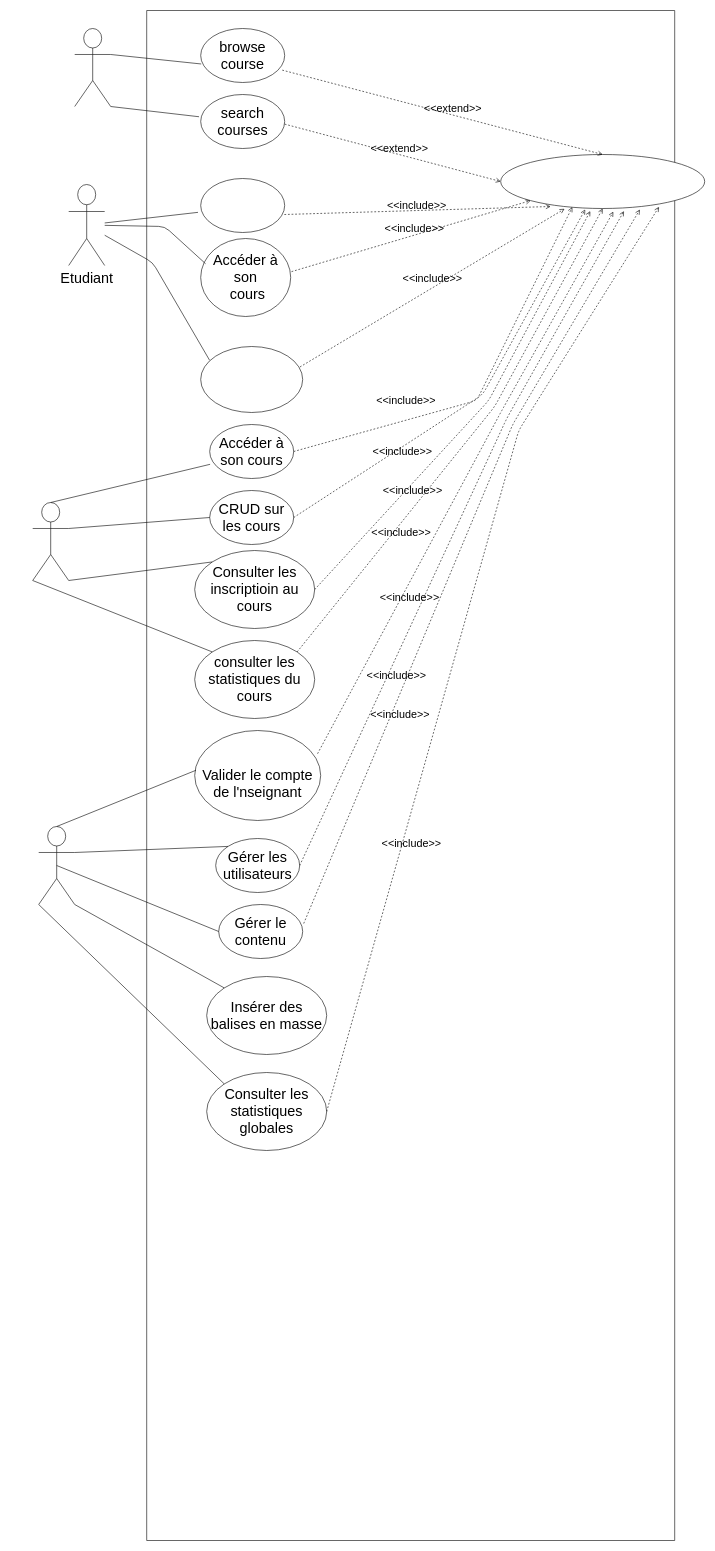
Some shapes in this 715 by 1551 pixel diagram are drawn without their labels. Each missing label, with the centre of its shape:
"Administrateur" goes at (x=56, y=865).
"Authentifier" goes at (x=602, y=181).
"consulter les détails du cours" goes at (x=251, y=379).
"Enseignant" goes at (x=50, y=541).
"s'nscrire à un cours" goes at (x=242, y=205).
"Visitor" goes at (x=92, y=67).
